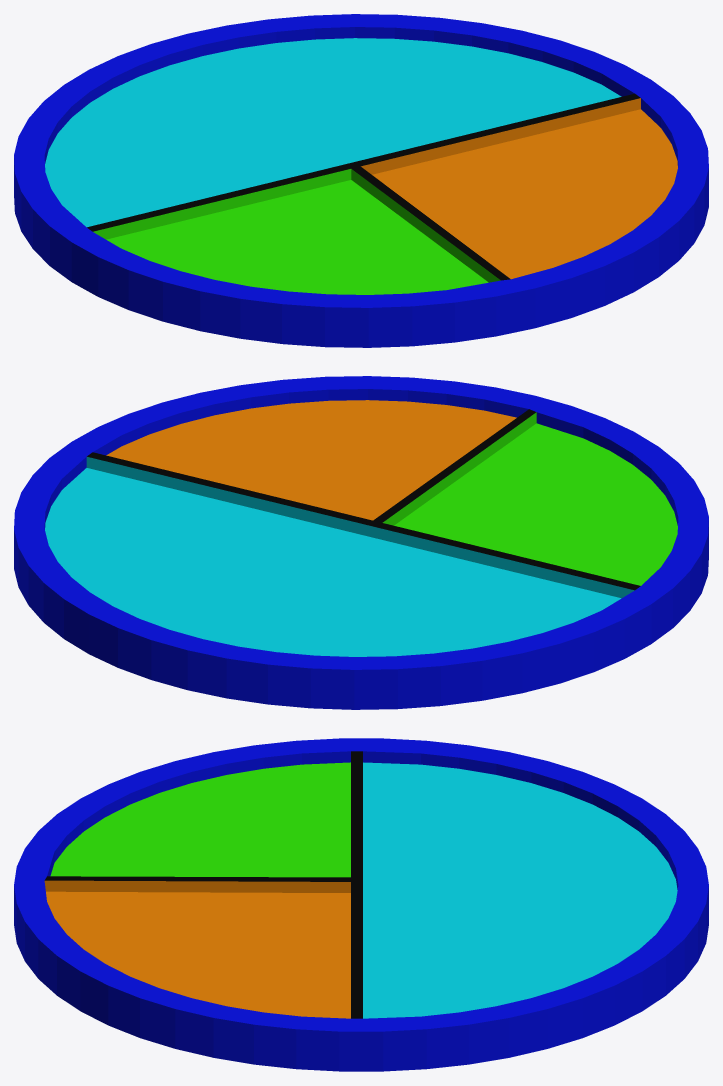
The model's file is PlateTwo.fbx.
The picture shows the model from 3 angles, top to bottom: view 1: azimuth 30°, elevation 25°; view 2: azimuth 150°, elevation 25°; view 3: azimuth 270°, elevation 25°; orthographic projection.
Visible parts, largest first — view 1: Cylinder; view 2: Cylinder; view 3: Cylinder.
Boxes of the visible parts, x1,y1,x2,y2 form: Cylinder: (14,14,708,347); Cylinder: (14,376,708,709); Cylinder: (14,738,708,1071).
Bounding box in the file's own units: 200 × 12.68 × 200.
